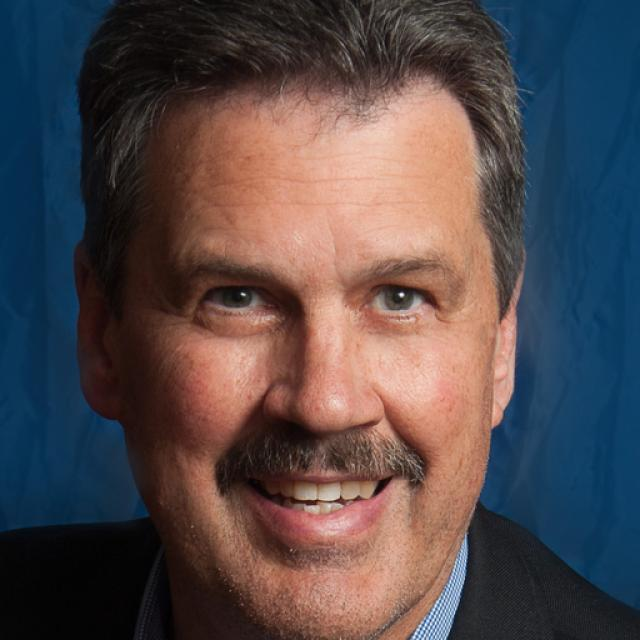Pigmentation: (202, 121, 279, 228)
Wrinkle: (213, 168, 442, 188), (193, 195, 446, 209), (297, 148, 429, 166)
